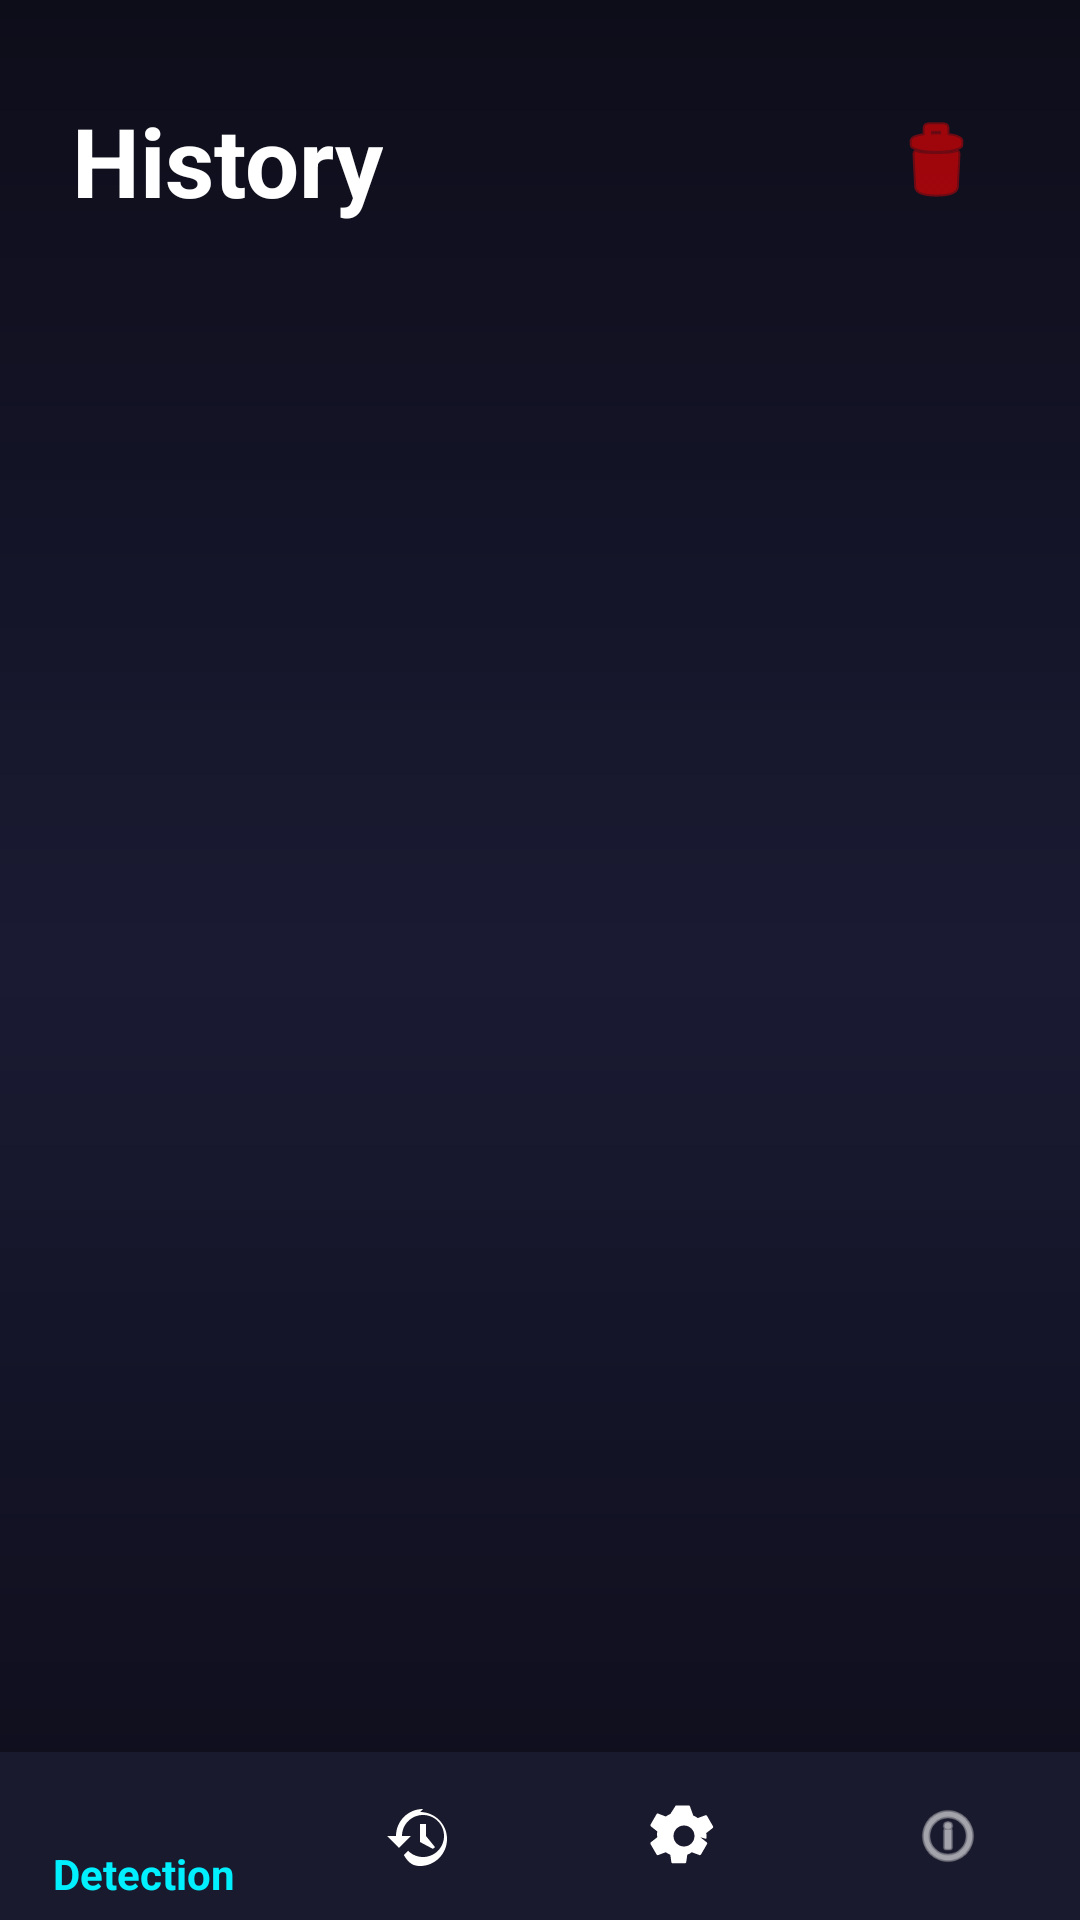

Where to tap for icons on this 1080 × 1920 app screen, as (x=x, y=y):
delete: (x=936, y=159)
